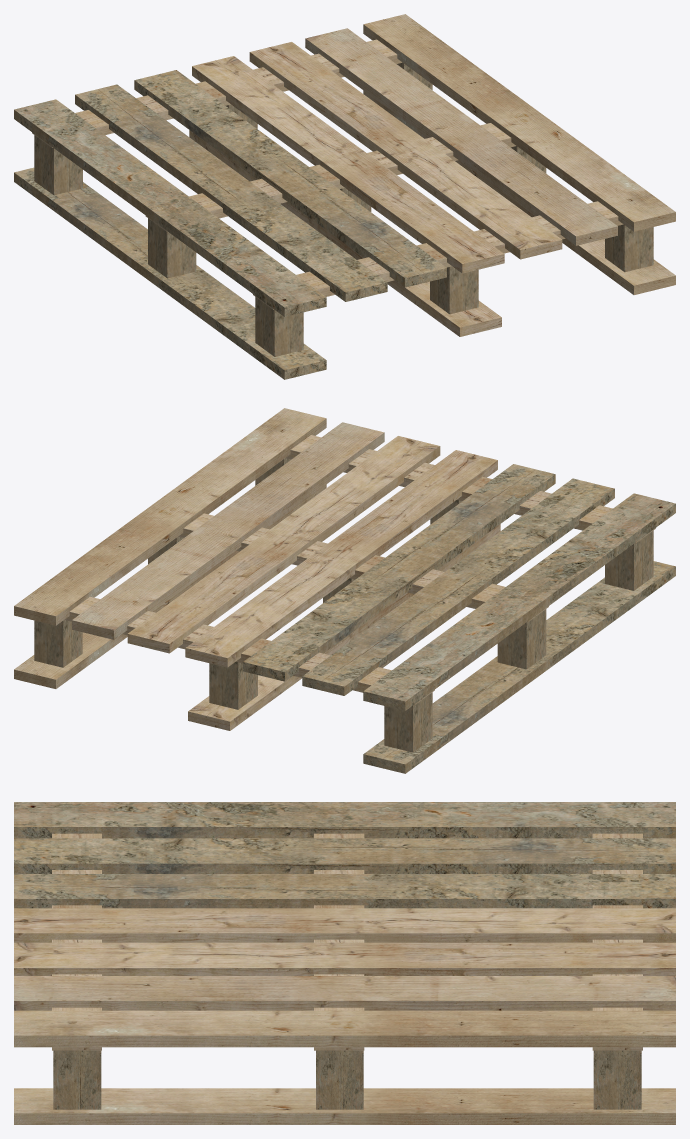
File: Wooden palet.FBX
3 renders of one model, top to bottom at view 1: azimuth 30°, elevation 25°; view 2: azimuth 150°, elevation 25°; view 3: azimuth 270°, elevation 25°, orthographic. The views are drawn at different scales.
Visible parts, largest first — view 1: Box029; view 2: Box029; view 3: Box029.
Boxes of the visible parts, x1=… form: Box029: x1=14, y1=14, x2=675, y2=379; Box029: x1=14, y1=408, x2=675, y2=773; Box029: x1=14, y1=802, x2=675, y2=1124.
Size of the model in its own units: 140 by 167 by 24.9.
